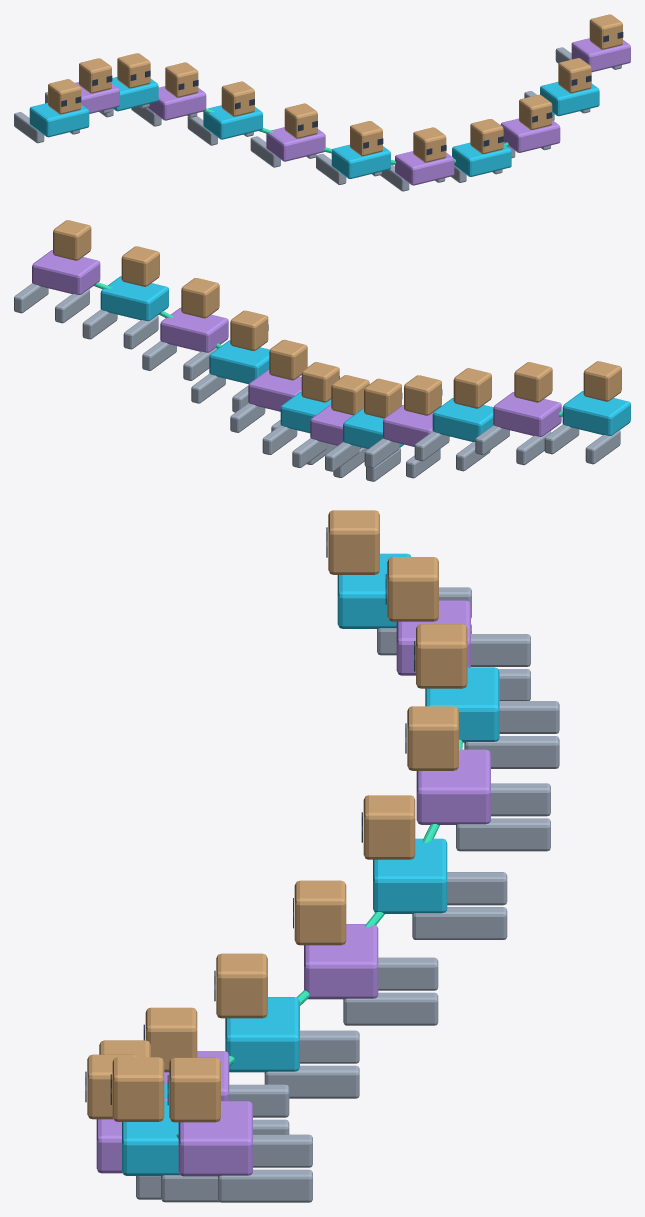
The model's file is turbo.glb.
3 renders of one model, top to bottom at view 1: azimuth 30°, elevation 25°; view 2: azimuth 150°, elevation 25°; view 3: azimuth 270°, elevation 25°, orthographic. The views are drawn at different scales.
Visible parts, largest first — view 1: Palm, Palm.007, Palm.006, Palm.005, Palm.008, Palm.004, Palm.009, Palm.010, Palm.011, Palm.003, Fiducial.005, Fiducial.011 (+18 smaller); view 2: Palm, Palm.011, Palm.001, Palm.010, Palm.009, Palm.002, Palm.008, Palm.007, Palm.003, Fiducial.001, Fiducial.010, Fiducial.011 (+33 smaller); view 3: Palm.011, Palm.004, Palm.003, Palm.005, Palm.006, Palm.002, Fiducial.005, Fiducial.010, Fiducial.004, Fiducial.006, Fiducial.011, Fiducial.001 (+25 smaller).
Boxes of the visible parts, left/top/right/bottom form: Palm: left=29, top=103, right=89, bottom=137; Palm.007: left=395, top=151, right=454, bottom=185; Palm.006: left=331, top=144, right=390, bottom=178; Palm.005: left=266, top=127, right=325, bottom=161; Palm.008: left=452, top=142, right=511, bottom=176; Palm.004: left=203, top=105, right=262, bottom=139; Palm.009: left=500, top=118, right=560, bottom=152; Palm.010: left=540, top=82, right=599, bottom=116; Palm.011: left=571, top=38, right=630, bottom=72; Palm.003: left=147, top=86, right=206, bottom=120; Fiducial.005: left=284, top=103, right=317, bottom=138; Fiducial.011: left=589, top=14, right=622, bottom=49; Palm: left=562, top=391, right=630, bottom=435; Palm.011: left=32, top=250, right=100, bottom=294; Palm.001: left=493, top=392, right=561, bottom=436; Palm.010: left=100, top=276, right=168, bottom=321; Palm.009: left=160, top=307, right=228, bottom=352; Palm.002: left=432, top=398, right=493, bottom=441; Palm.008: left=209, top=340, right=269, bottom=384; Palm.007: left=248, top=369, right=301, bottom=411; Palm.003: left=383, top=405, right=433, bottom=446; Fiducial.001: left=514, top=362, right=552, bottom=402; Fiducial.010: left=121, top=246, right=159, bottom=286; Fiducial.011: left=53, top=220, right=91, bottom=260; Palm.011: left=178, top=1101, right=252, bottom=1176; Palm.004: left=373, top=838, right=447, bottom=913; Palm.003: left=416, top=749, right=490, bottom=824; Palm.005: left=304, top=924, right=378, bottom=999; Palm.006: left=225, top=997, right=299, bottom=1072; Palm.002: left=425, top=667, right=499, bottom=742; Fiducial.005: left=294, top=880, right=346, bottom=945; Fiducial.010: left=112, top=1057, right=164, bottom=1121; Fiducial.004: left=363, top=795, right=415, bottom=859; Fiducial.006: left=216, top=953, right=267, bottom=1018; Fiducial.011: left=169, top=1057, right=220, bottom=1122; Fiducial.001: left=387, top=557, right=438, bottom=621.
Bounding box in the file's own units: 6.1 × 1.61 × 2.29.
